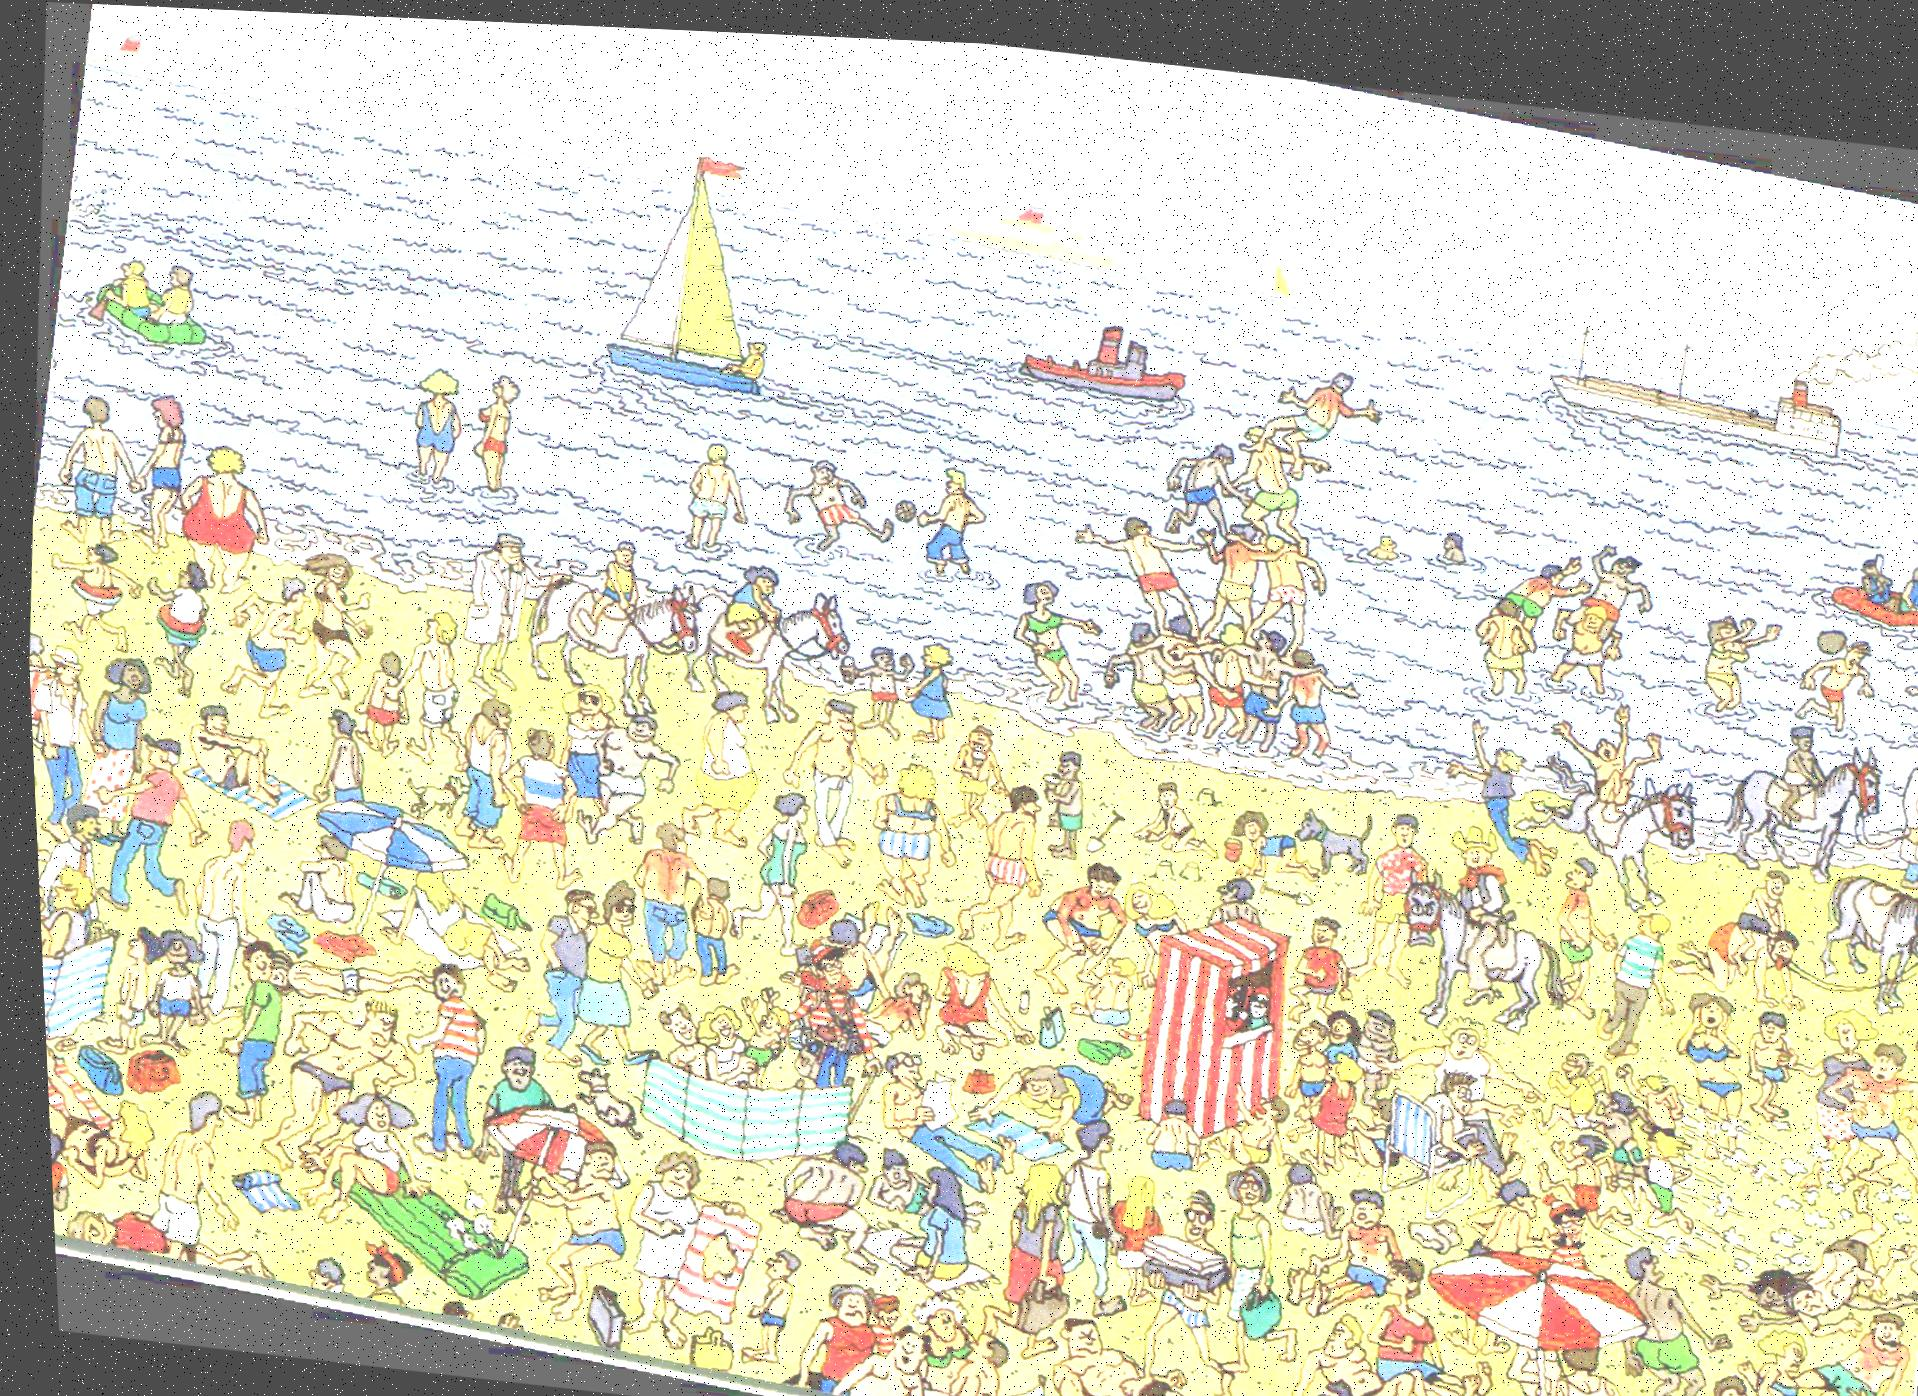waldo: (798, 927, 846, 985)
